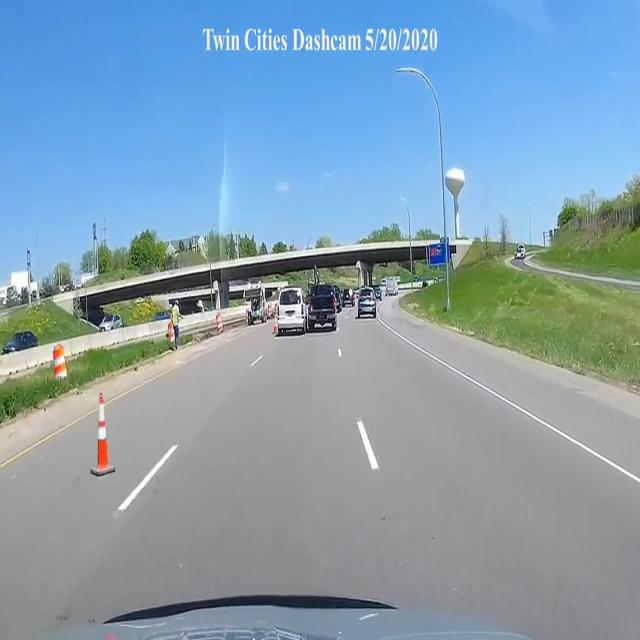Traffic Cone: (91, 388, 118, 476)
